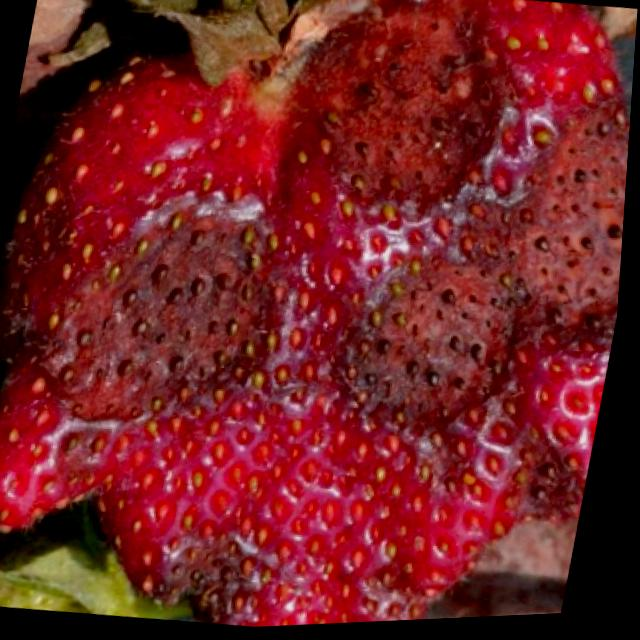Anthracnose Fruit Rot: (2, 0, 633, 630)
